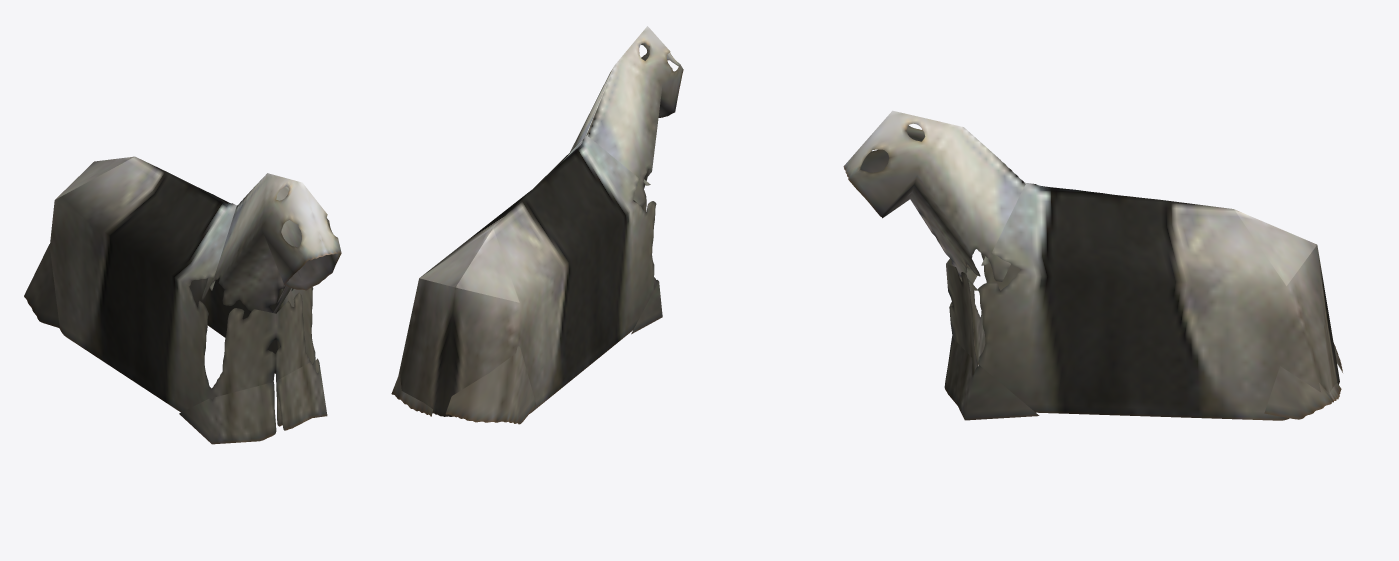
File: Lod1_Level03_Soldier_Cavalry.FBX
The picture shows the model from 3 angles, left to right: view 1: azimuth 30°, elevation 25°; view 2: azimuth 150°, elevation 25°; view 3: azimuth 270°, elevation 25°; orthographic projection. The views are drawn at different scales.
Parts seen in each view (by area): view 1: Horse_Torso, Horse_Head, Horse_F_Legs, Horse_B_Legs; view 2: Horse_Torso, Horse_Head, Horse_B_Legs, Horse_F_Legs; view 3: Horse_Torso, Horse_Head, Horse_F_Legs, Horse_B_Legs.
Part boxes in pixels (x1,y1,x2,y2): Horse_Torso: [50, 156, 315, 426]; Horse_Head: [201, 173, 341, 313]; Horse_F_Legs: [179, 358, 327, 444]; Horse_B_Legs: [24, 243, 59, 327]; Horse_Torso: [398, 134, 656, 417]; Horse_Head: [570, 26, 683, 206]; Horse_B_Legs: [391, 346, 536, 424]; Horse_F_Legs: [631, 277, 662, 334]; Horse_Torso: [946, 182, 1339, 420]; Horse_Head: [843, 110, 1025, 290]; Horse_F_Legs: [944, 336, 1039, 420]; Horse_B_Legs: [1264, 343, 1342, 419].
Bounding box in the file's own units: 115 × 208 × 214.
